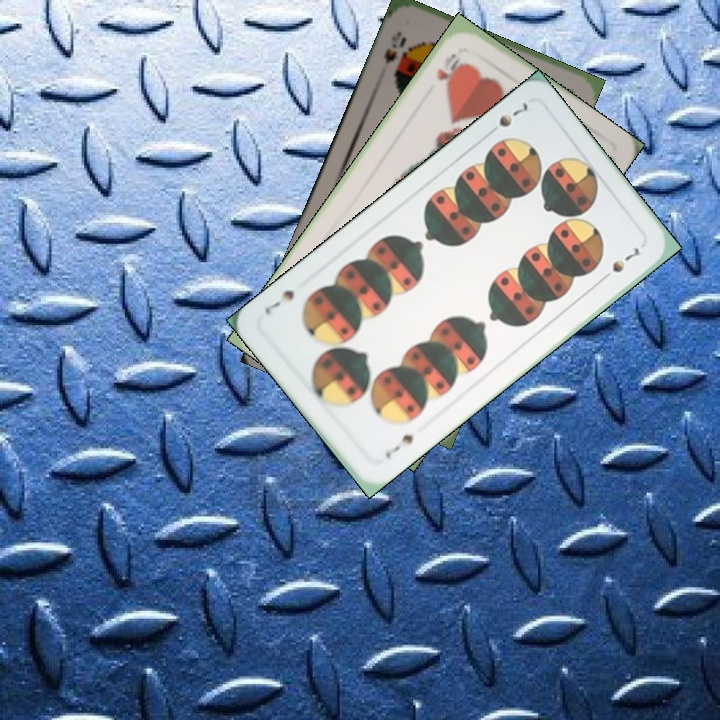HO: (432, 49, 464, 84)
S7: (482, 97, 531, 139), (381, 430, 416, 462)
SO: (380, 27, 409, 79)
